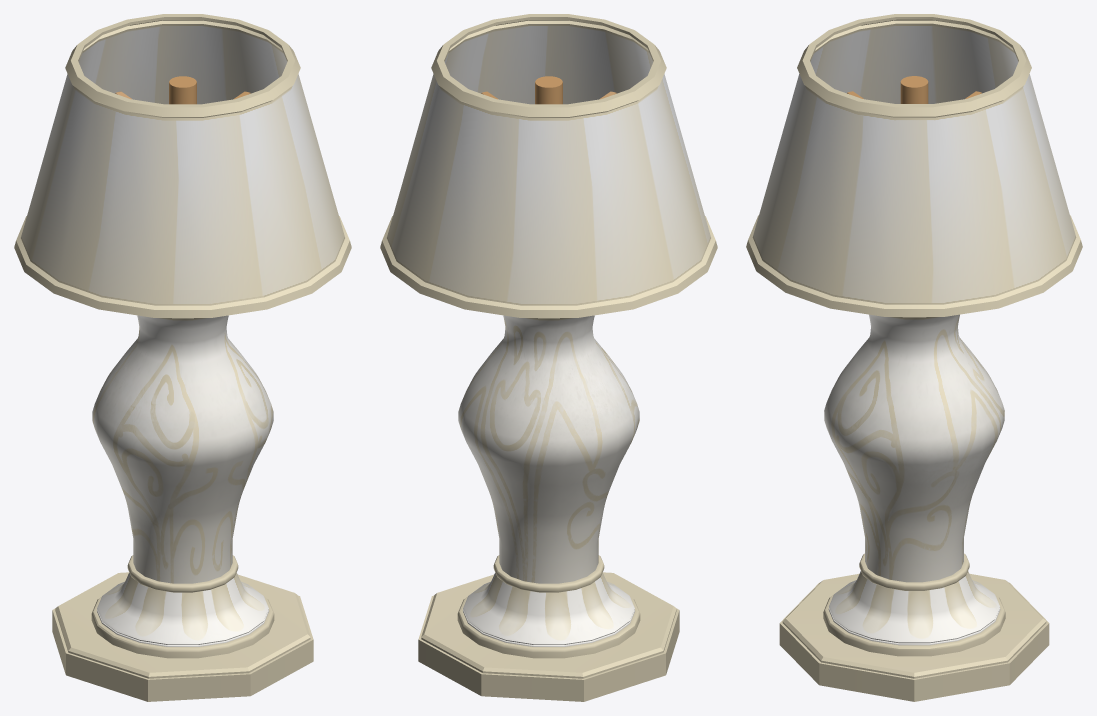
File: classic table lamp.fbx
3 views of the same model, side by side, from view 1: azimuth 30°, elevation 25°; view 2: azimuth 150°, elevation 25°; view 3: azimuth 270°, elevation 25° (orthographic).
Parts seen in each view (by area): view 1: classic table lamp; view 2: classic table lamp; view 3: classic table lamp.
Boxes of the visible parts, x1=… form: classic table lamp: x1=14, y1=14, x2=351, y2=701; classic table lamp: x1=380, y1=14, x2=717, y2=701; classic table lamp: x1=746, y1=14, x2=1082, y2=701.
Bounding box in the file's own units: 23.65 × 45.97 × 24.01.
2 materials, 2 textured.
